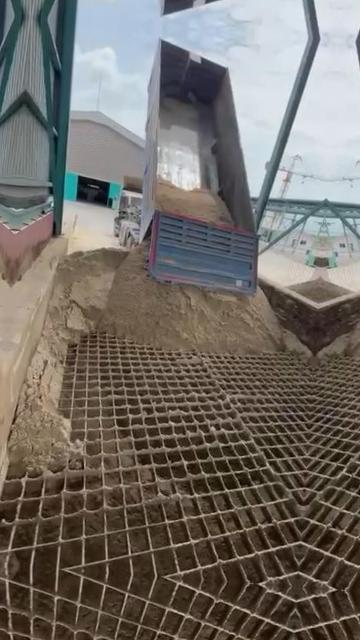sand: (9, 247, 282, 473), (156, 181, 233, 224), (284, 329, 314, 360), (290, 277, 321, 303)
